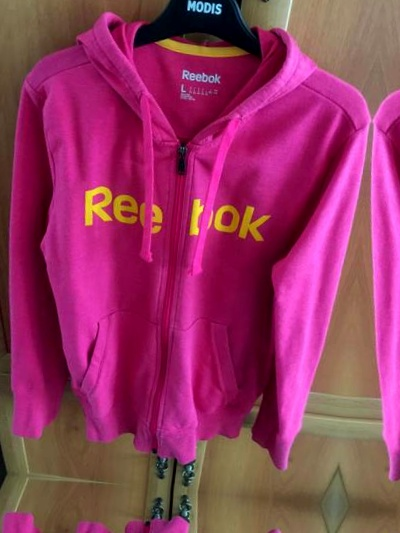Hoodie: (0, 0, 381, 484), (339, 15, 400, 519), (0, 492, 332, 533), (0, 0, 8, 448), (289, 527, 400, 533)
